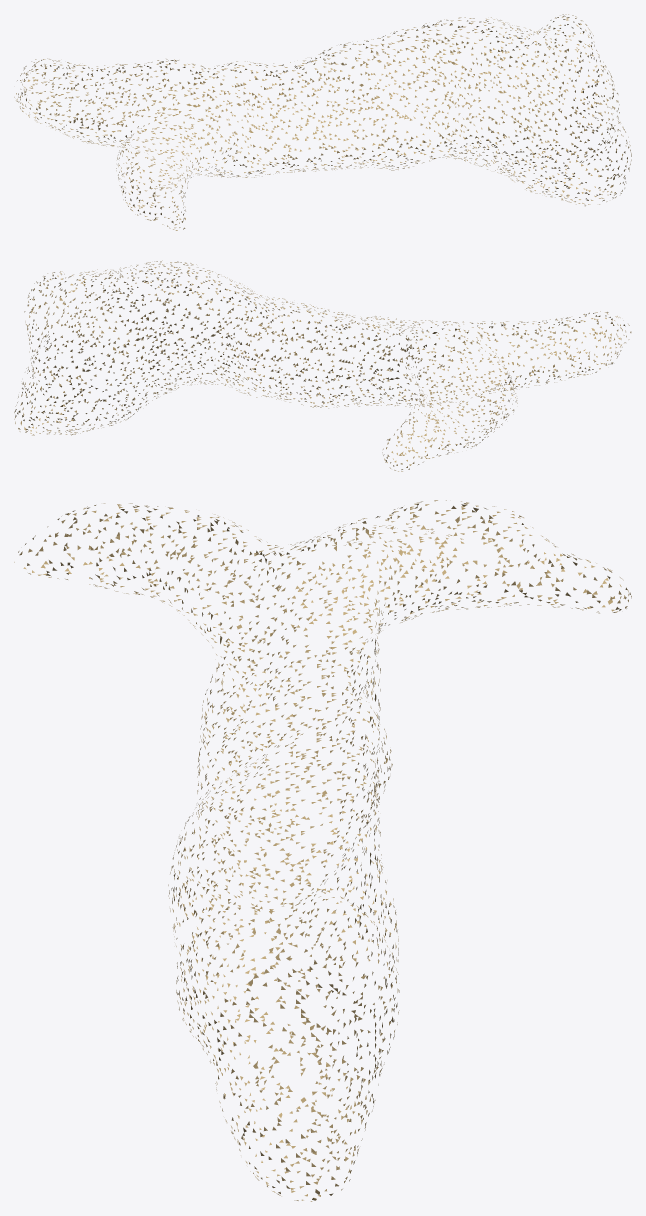
The model's file is morph_007.glb.
3 views of the same model, one above another, from view 1: azimuth 30°, elevation 25°; view 2: azimuth 150°, elevation 25°; view 3: azimuth 270°, elevation 25° (orthographic). The views are drawn at different scales.
Bounding box in the file's own units: 141 × 54.23 × 89.29.
